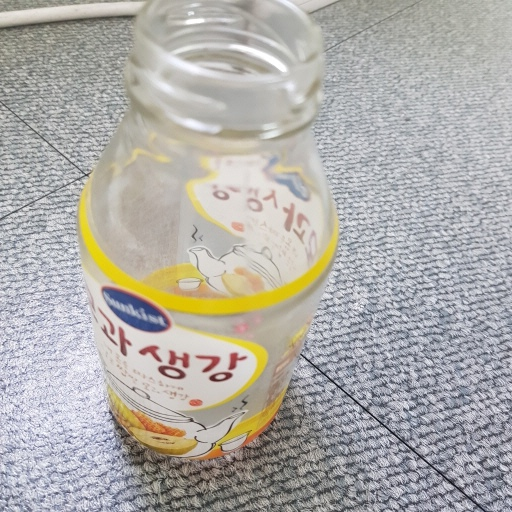Glass_4: (76, 1, 343, 464)
